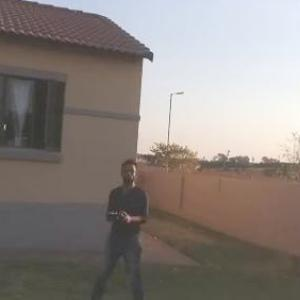follow: (80, 155, 156, 299)
